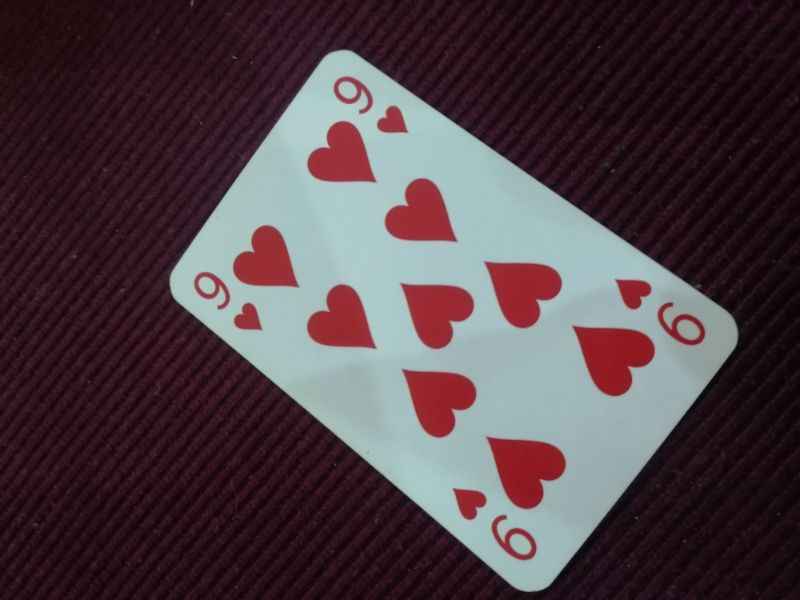9h: (610, 273, 711, 350), (449, 484, 539, 562), (330, 71, 412, 138), (190, 268, 266, 333)
